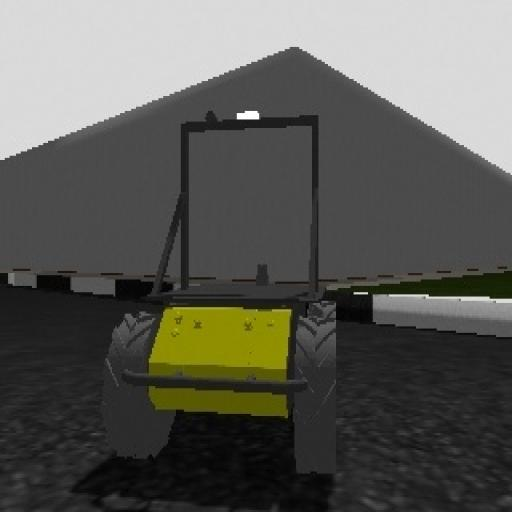huskya200: (108, 113, 340, 504)
